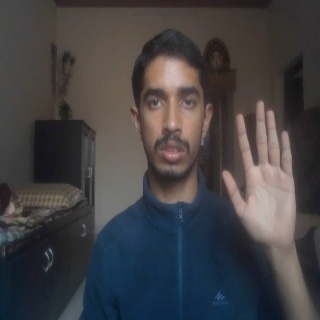Face: (127, 28, 215, 189)
Hello: (220, 98, 299, 253)
